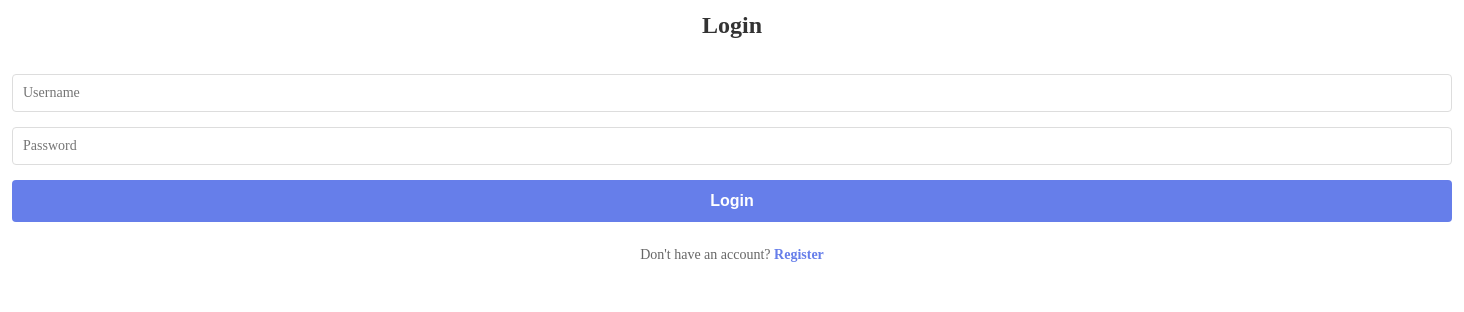
Test: Login Component Integration Tests (Mocking Fetch) › Xử lý lỗi HTTP khi API trả về 500
The image size is (1464, 312).
Type "user" into the field with test id "username-input". click: [732, 93]
box: [12, 74, 1452, 112]
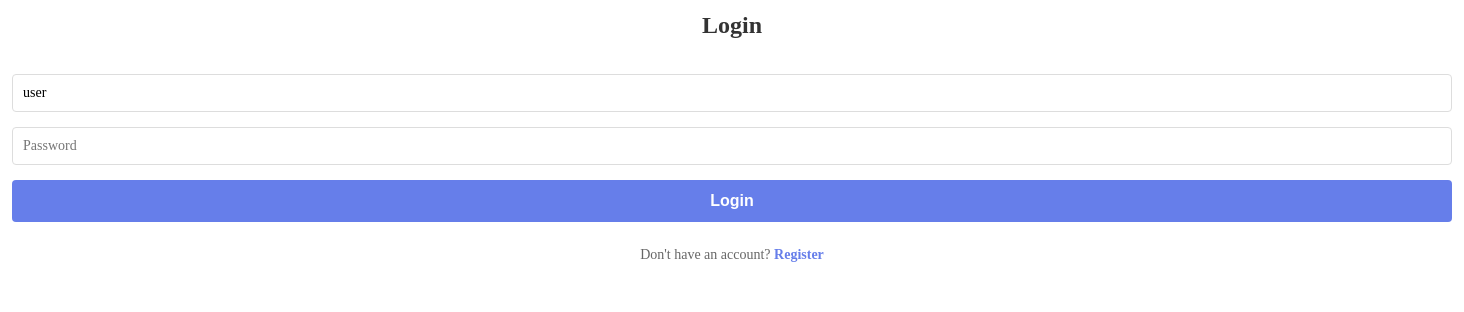
Type "Pass123" into the password field with test id "password-input". click: [732, 146]
box: [12, 127, 1452, 165]
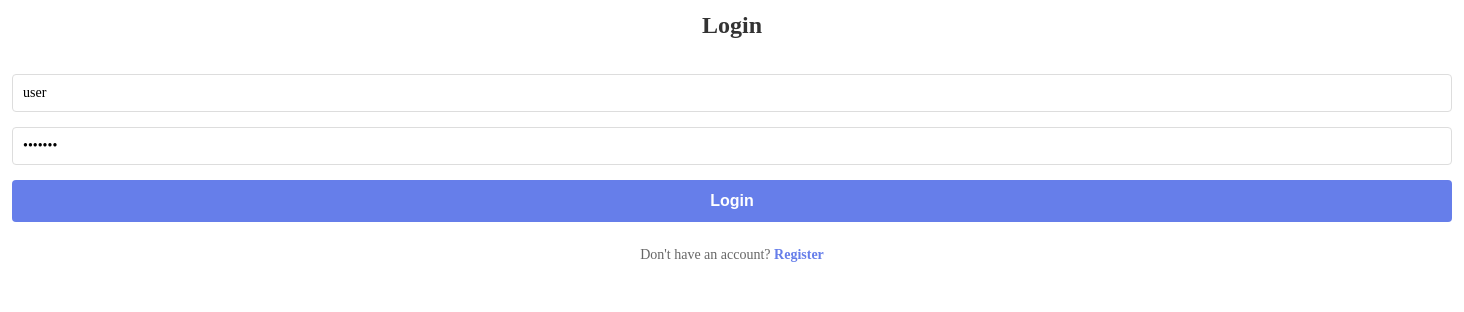
Click the button with test id "login-button". click: [732, 201]
box: [12, 180, 1452, 222]
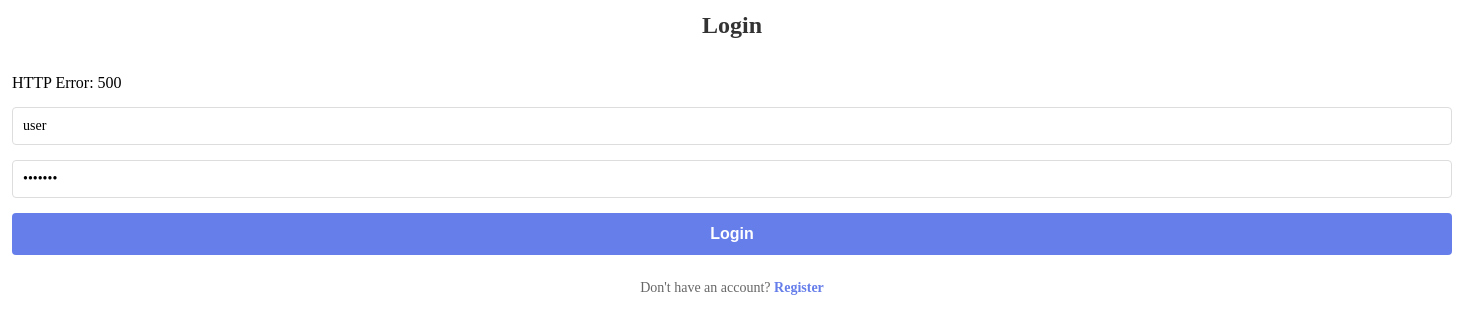
Now the text with test id "login-message" reads "HTTP Error: 500", box [12, 74, 122, 91]
